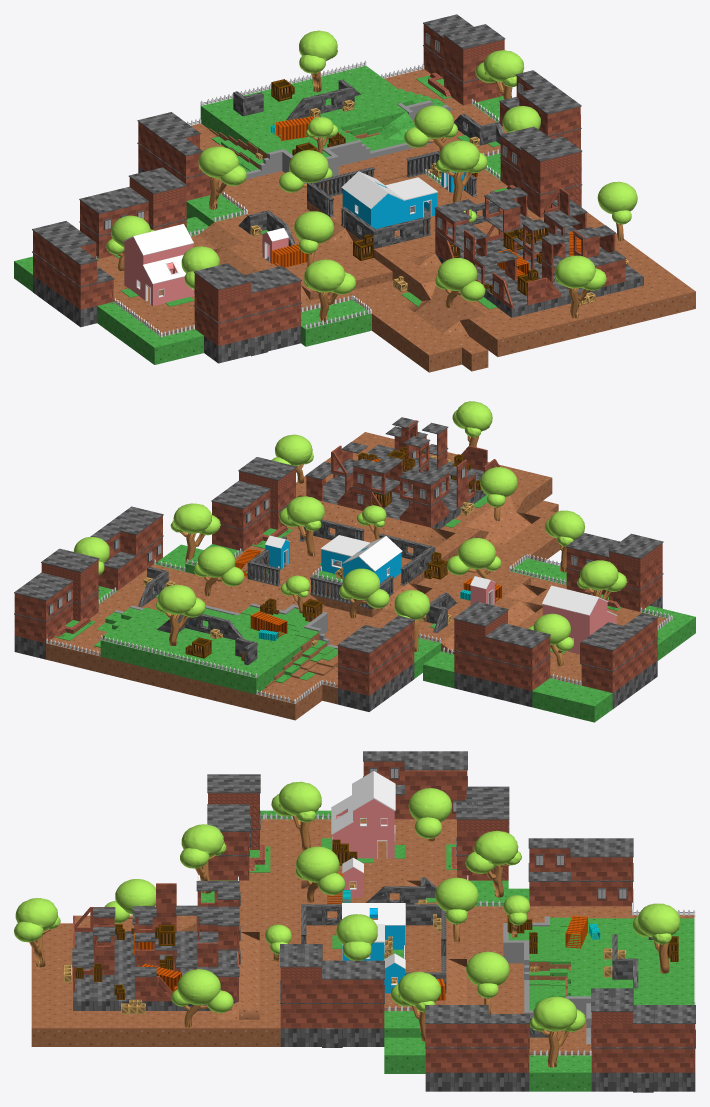
The model's file is sigmacityupdated.glb.
The picture shows the model from 3 angles, top to bottom: view 1: azimuth 30°, elevation 25°; view 2: azimuth 150°, elevation 25°; view 3: azimuth 270°, elevation 25°; orthographic projection. The views are drawn at different scales.
Visible parts, largest first — view 1: Map; view 2: Map; view 3: Map.
Part boxes in pixels (box(x1,y1,x2,y2)): Map: box(14, 14, 695, 372); Map: box(14, 401, 695, 722); Map: box(14, 751, 695, 1092).
Size of what is drawn, in the model's own units: 64.15 by 12.12 by 65.77.
Materials: 23 (6 with a texture image).
